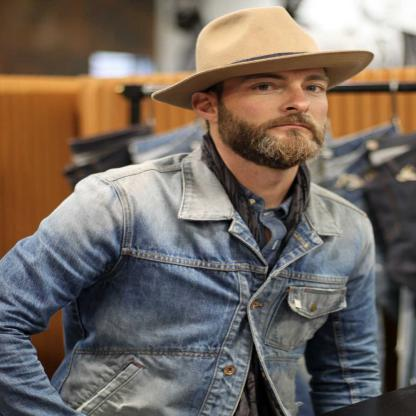hat: (146, 7, 379, 116)
